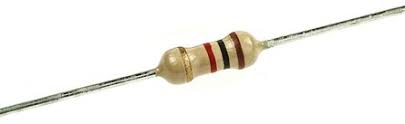resistor: (130, 17, 308, 105)
